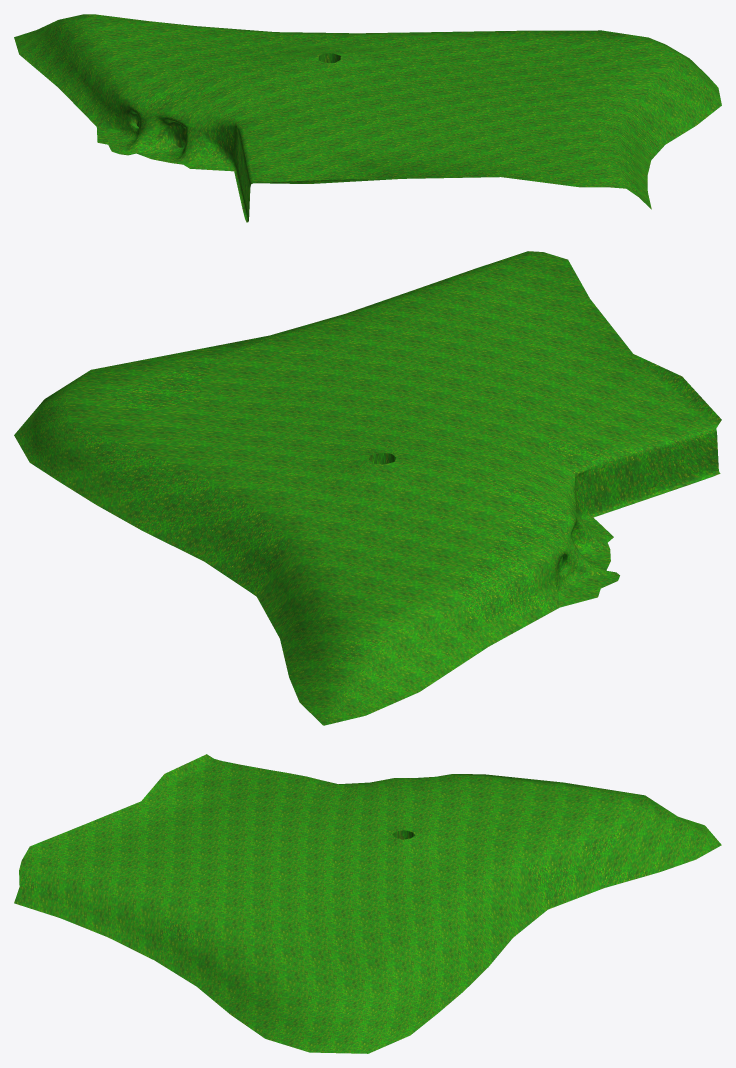
Rendered from HTOWN01_PS15.fbx.
3 views of the same model, one above another, from view 1: azimuth 30°, elevation 25°; view 2: azimuth 150°, elevation 25°; view 3: azimuth 270°, elevation 25° (orthographic). The views are drawn at different scales.
Parts seen in each view (by area): view 1: HTOWN01_PS15; view 2: HTOWN01_PS15; view 3: HTOWN01_PS15.
Part boxes in pixels (bbox=[...]): HTOWN01_PS15: bbox=[14, 14, 721, 222]; HTOWN01_PS15: bbox=[14, 251, 721, 725]; HTOWN01_PS15: bbox=[14, 754, 721, 1053].
Size of the model in its own units: 452142 by 67844 by 554981.
2 materials, 2 textured.
